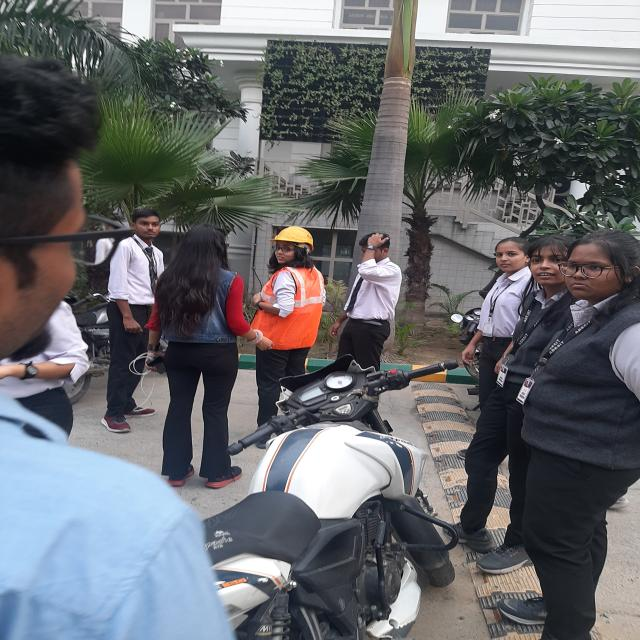safe: (241, 226, 329, 429)
unsafe: (502, 230, 640, 640), (149, 213, 261, 489), (103, 205, 171, 432), (348, 228, 405, 370)
